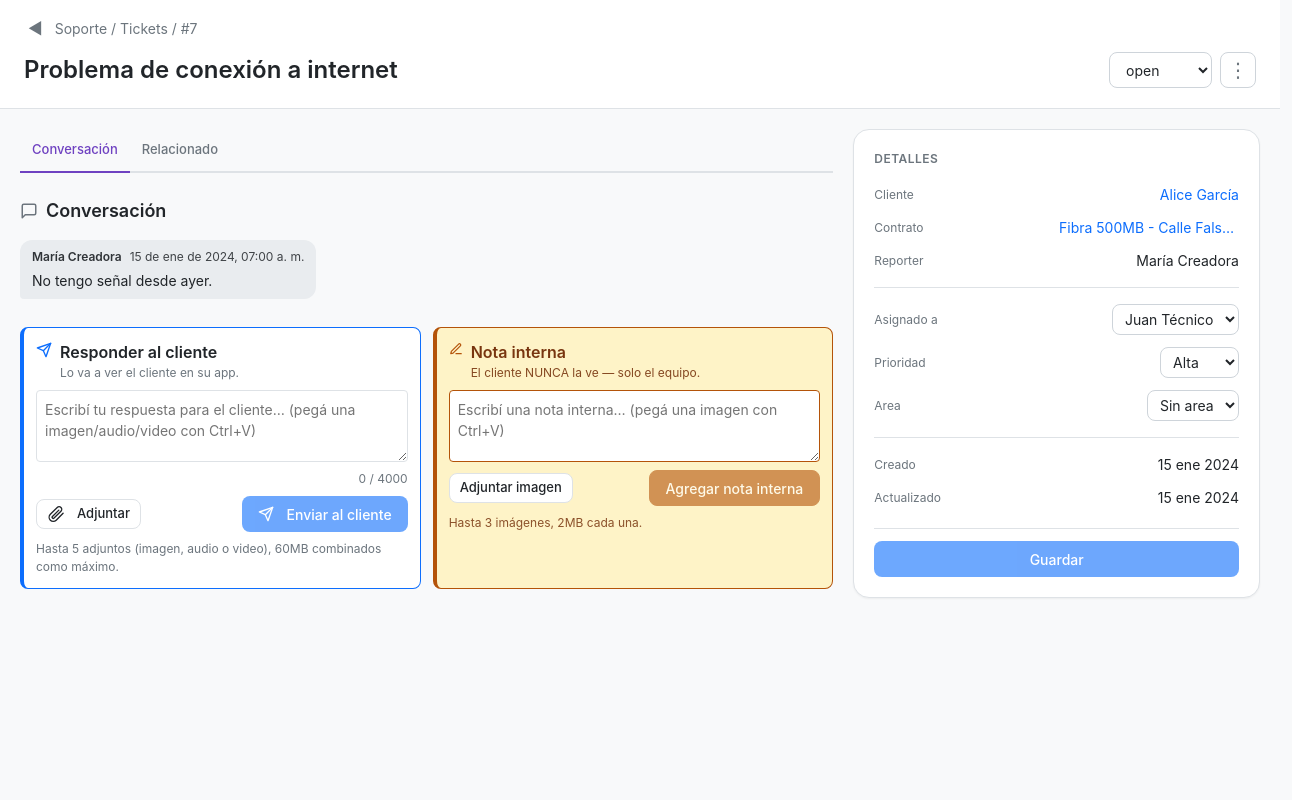
Test: TicketDetailPage (Prominense layout) › Acciones kebab exposes Cerrar / Crear tarea / Eliminar with full perms
Step 1. Click the button named "acciones" → (1238, 70), box [1220,52,1256,88]
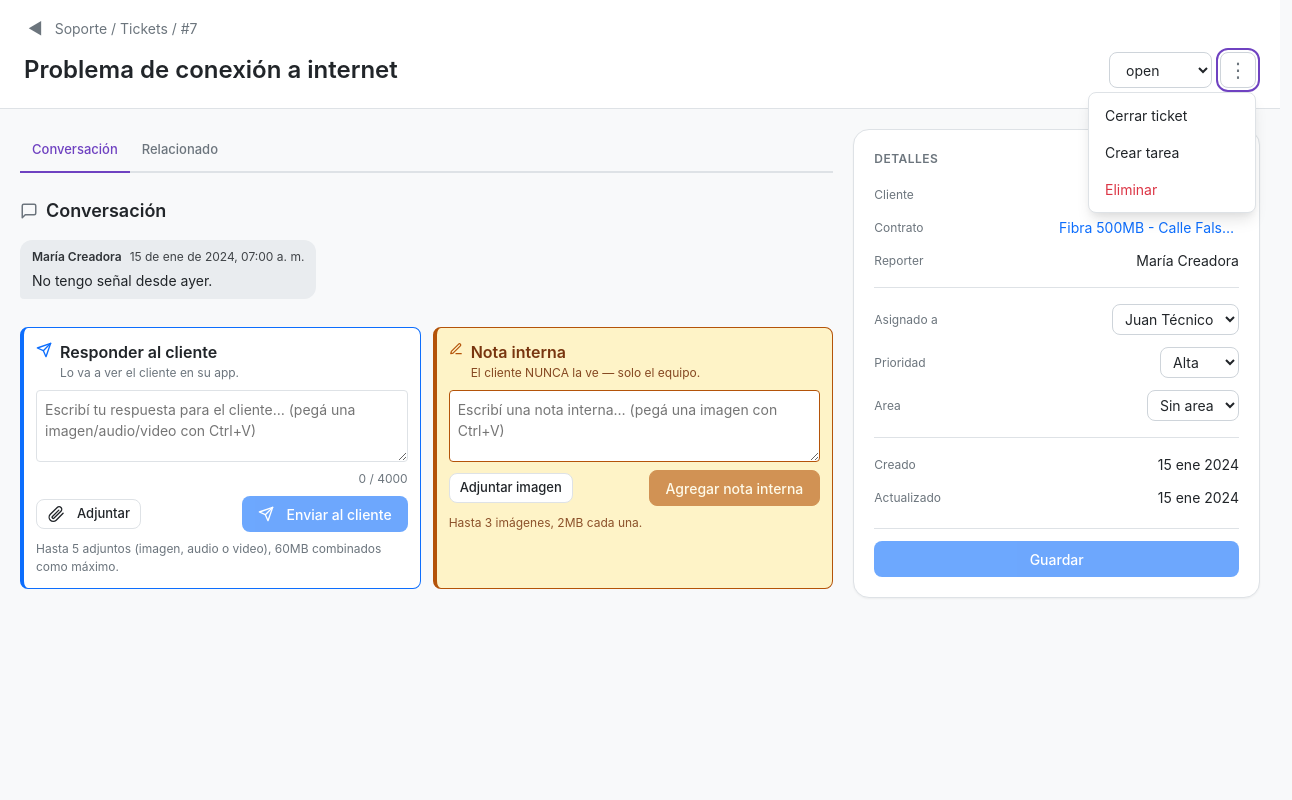
Result: the menu item "Cerrar ticket" is shown at [1093,97,1251,134]
Result: the menu item "Crear tarea" is shown at [1093,134,1251,171]
Result: the menu item "Eliminar" is shown at [1093,171,1251,208]
